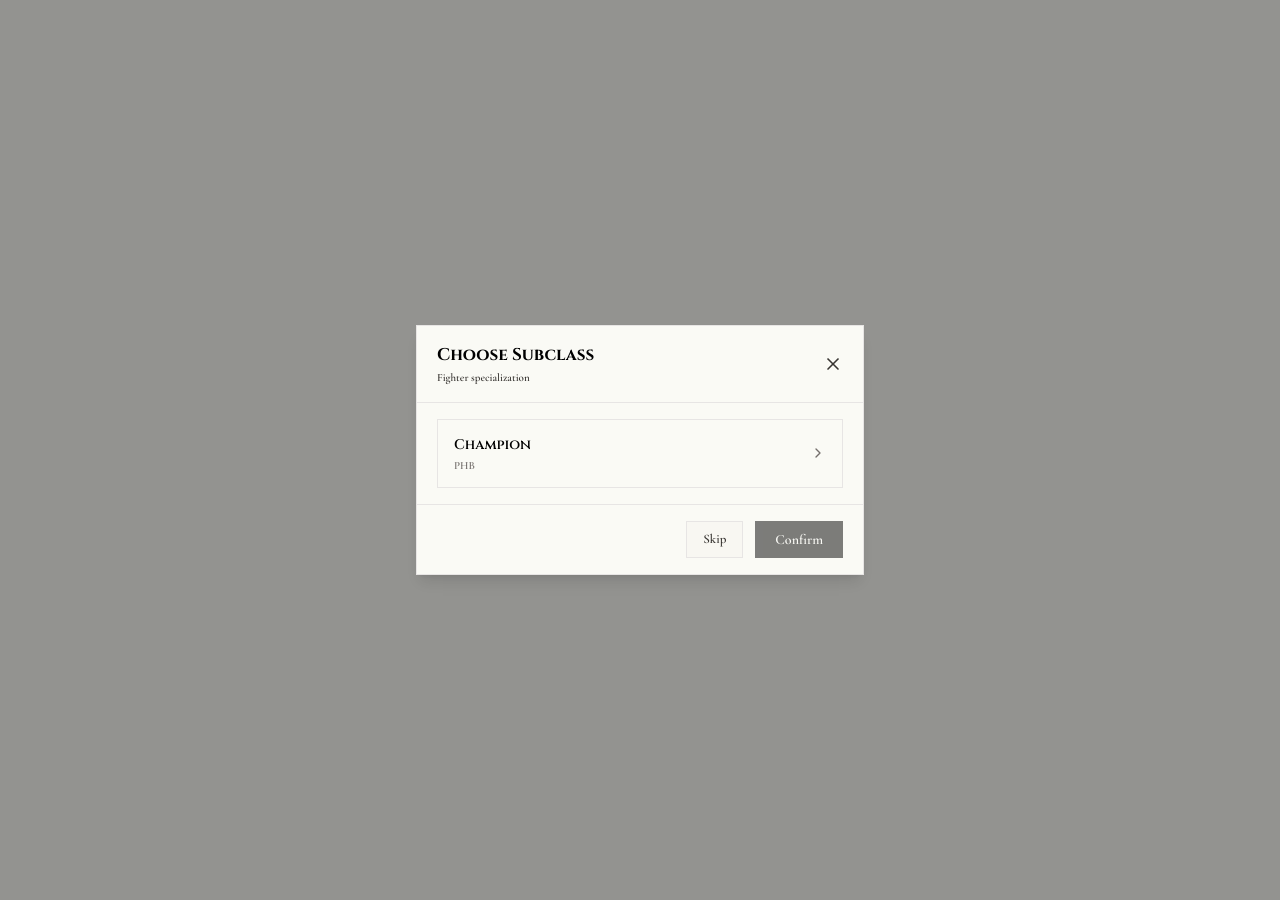
Test: SubclassModal › shows submitting state in button text
The image size is (1280, 900).
Click the text "Champion" at (492, 444), box [454,435,531,454]
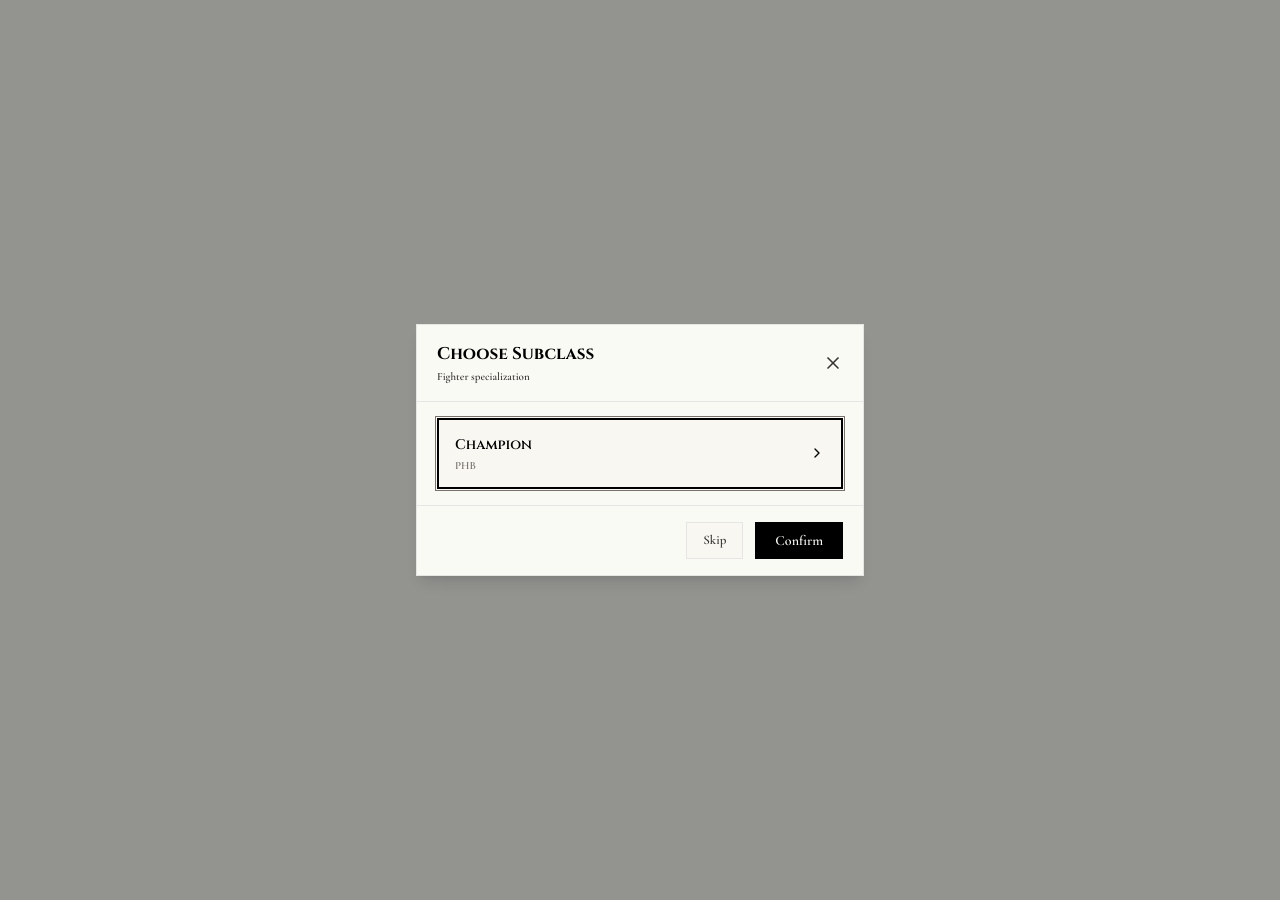
Click the button "Confirm" at (799, 540), box [755,522,843,559]
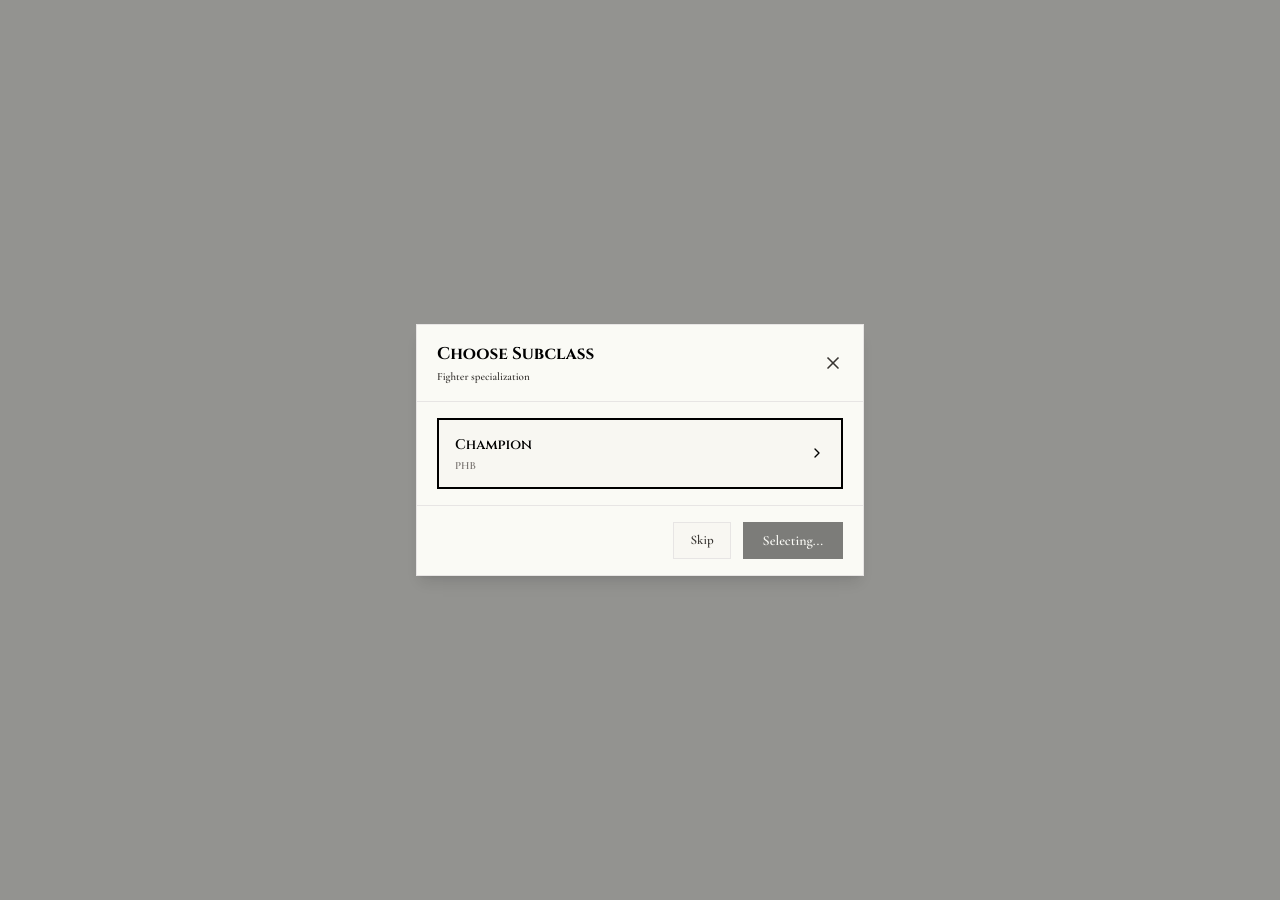
Expected: the button "Selecting..." is disabled, [742,522,843,559]
